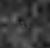nine: (25, 19, 30, 27)
seven: (19, 20, 24, 28)
